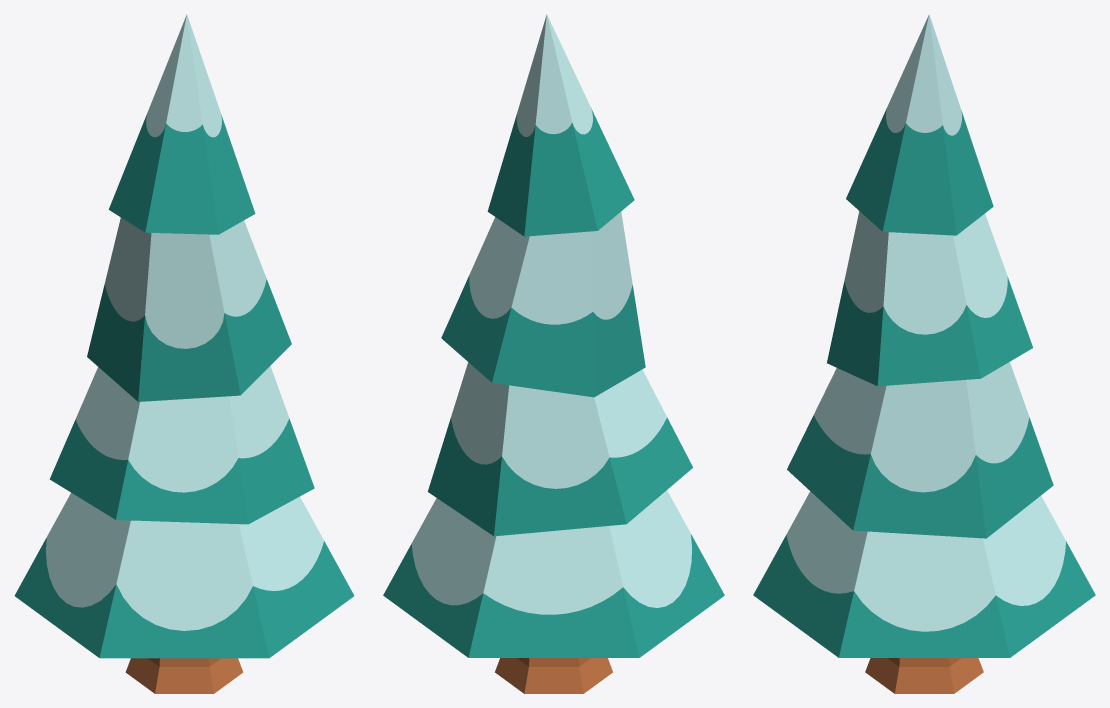
The model's file is treePineSnowRound.fbx.
3 views of the same model, side by side, from view 1: azimuth 30°, elevation 25°; view 2: azimuth 150°, elevation 25°; view 3: azimuth 270°, elevation 25° (orthographic).
Parts seen in each view (by area): view 1: treePineSnowRound; view 2: treePineSnowRound; view 3: treePineSnowRound.
Boxes of the visible parts, x1=… form: treePineSnowRound: x1=14, y1=14, x2=354, y2=693; treePineSnowRound: x1=383, y1=14, x2=724, y2=693; treePineSnowRound: x1=753, y1=14, x2=1095, y2=693.
Bounding box in the file's own units: 6.51 × 15.98 × 7.52.
